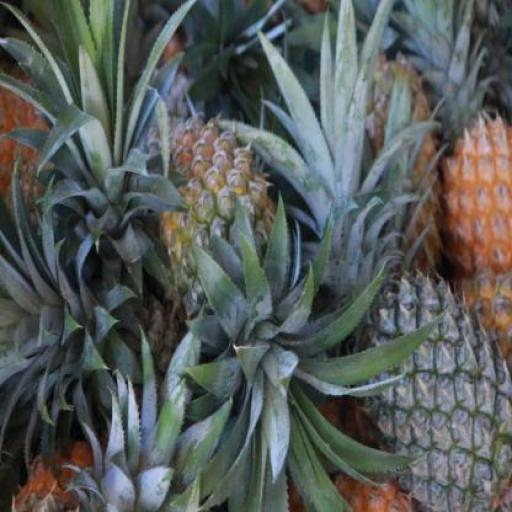------------------------------: (152, 121, 290, 332)
